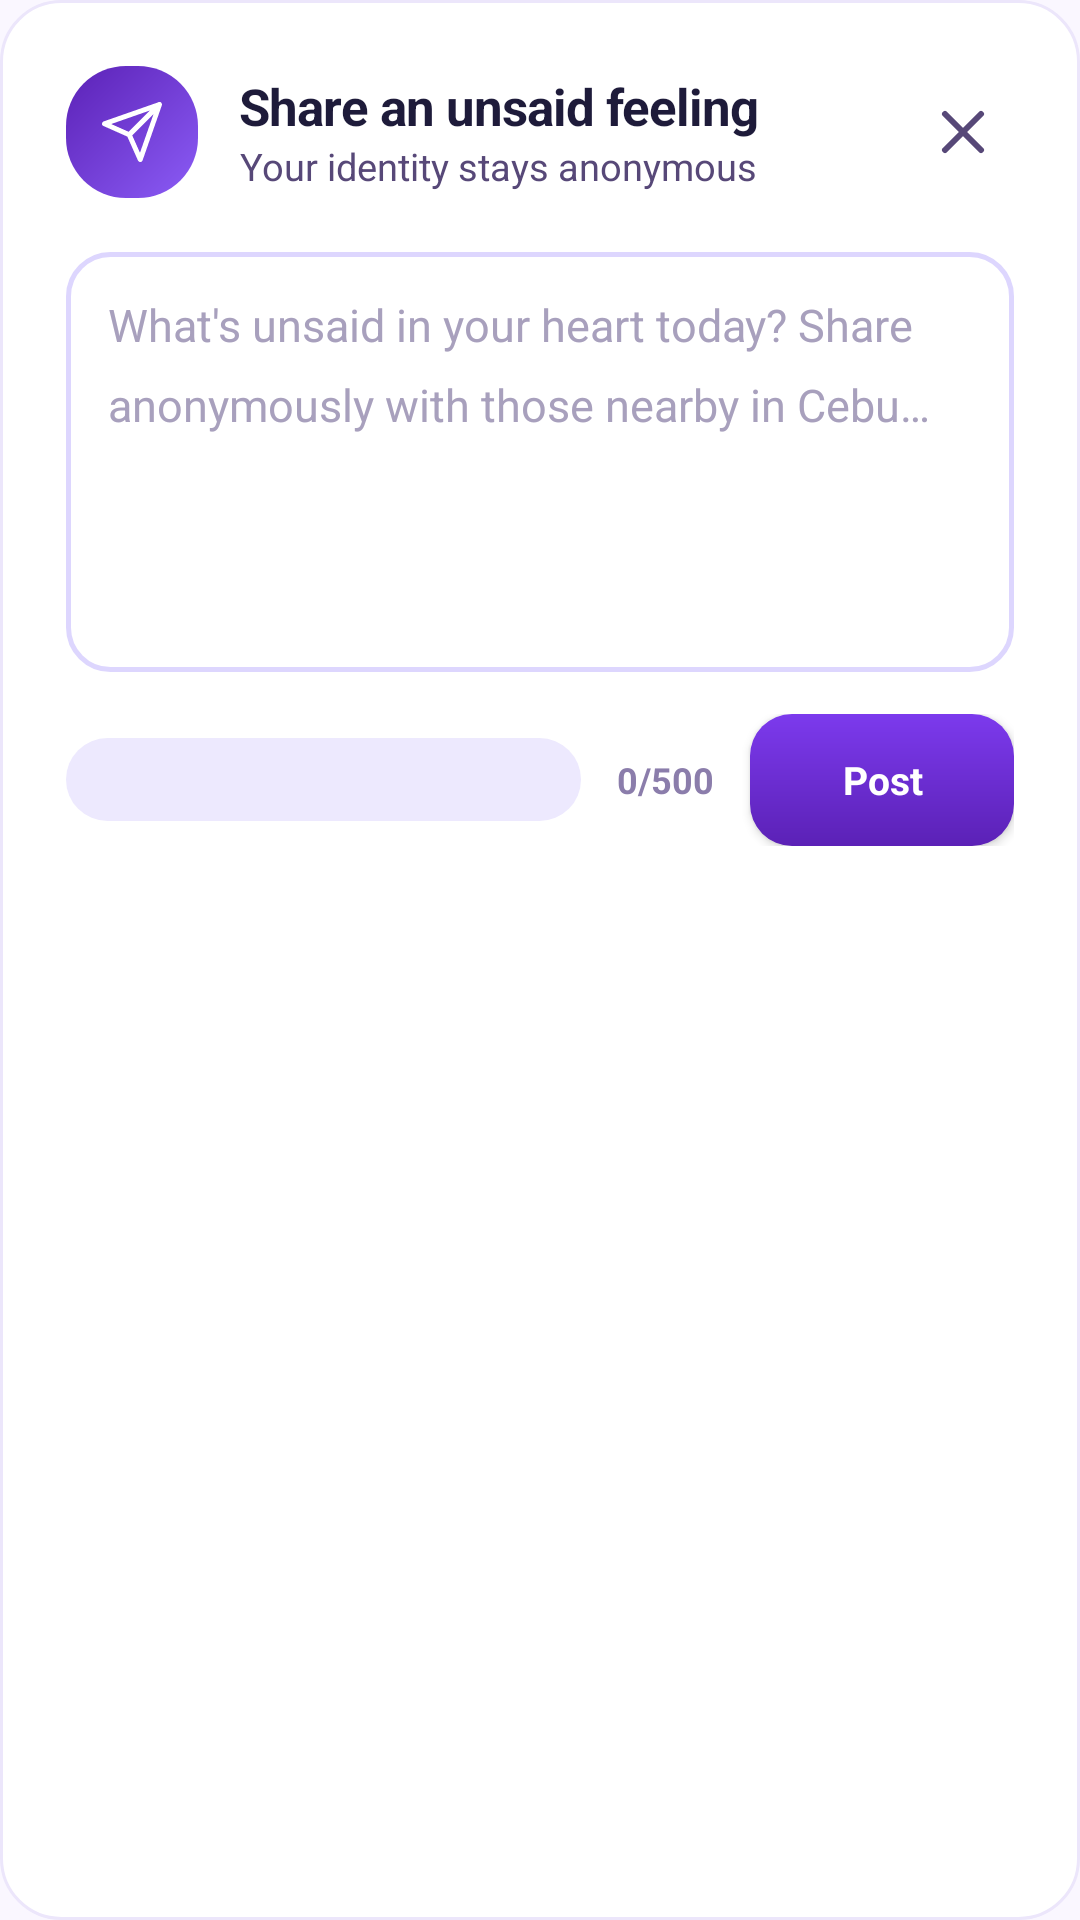

Point at icon controls on the screen. Image size 1080w x 1920h, points as (x,y).
Close: (963,132)
send: (132,132)
